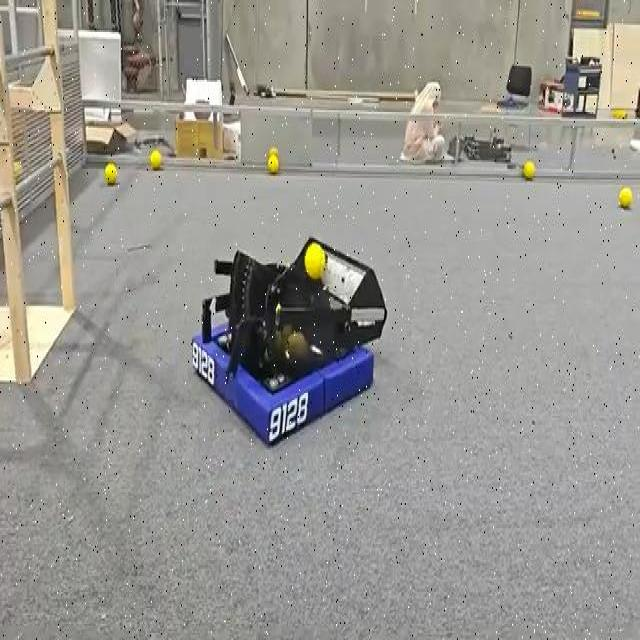Fuel: (304, 242, 326, 280), (304, 242, 325, 279), (619, 186, 633, 208), (522, 160, 536, 180), (104, 162, 116, 185), (619, 187, 632, 208), (104, 162, 116, 183), (149, 149, 161, 169), (267, 154, 279, 174), (150, 150, 162, 170), (522, 160, 535, 178), (267, 154, 278, 172), (268, 148, 278, 162), (268, 148, 277, 154)
